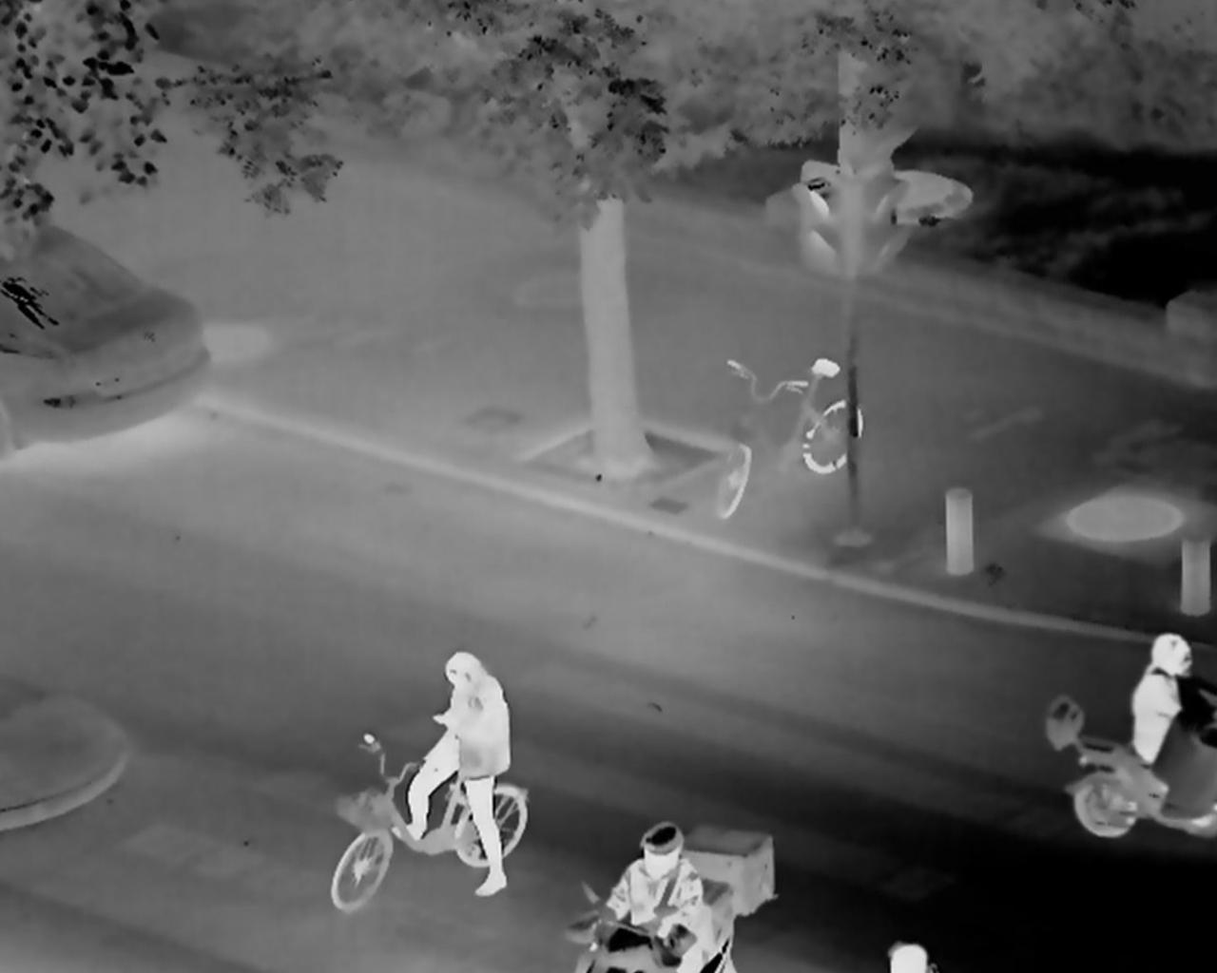person: (400, 652, 511, 897), (593, 823, 715, 973), (1127, 630, 1212, 829)
